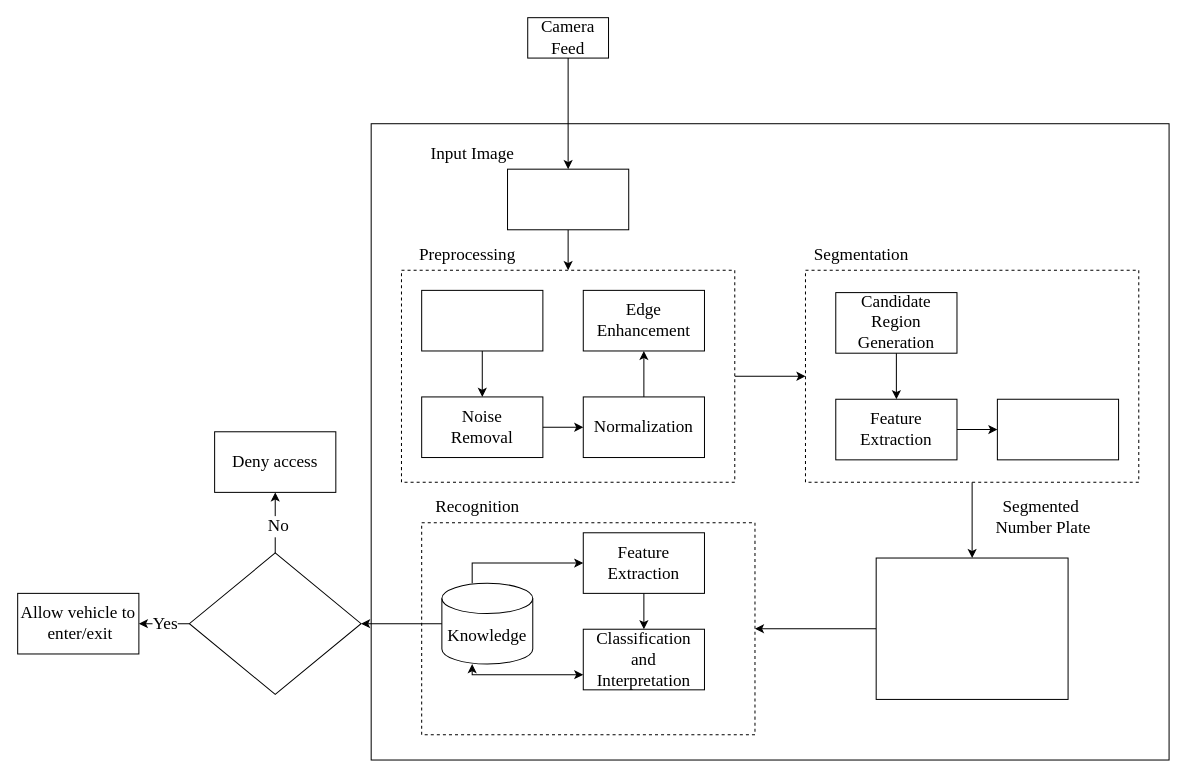
The diagram is 1187 pixels wide and 778 high, and some of its shapes have lost their labels. The centre of each missing label's shape, as x and y in pixels:
"Check number plate in database" belongs at point (274, 623).
"Classification" belongs at point (1057, 429).
"Enhancement of Segmented Number Plate Image" belongs at point (971, 628).
"Gray Scale Conversion" belongs at point (482, 320).
"Image Acquistion" belongs at point (568, 199).
